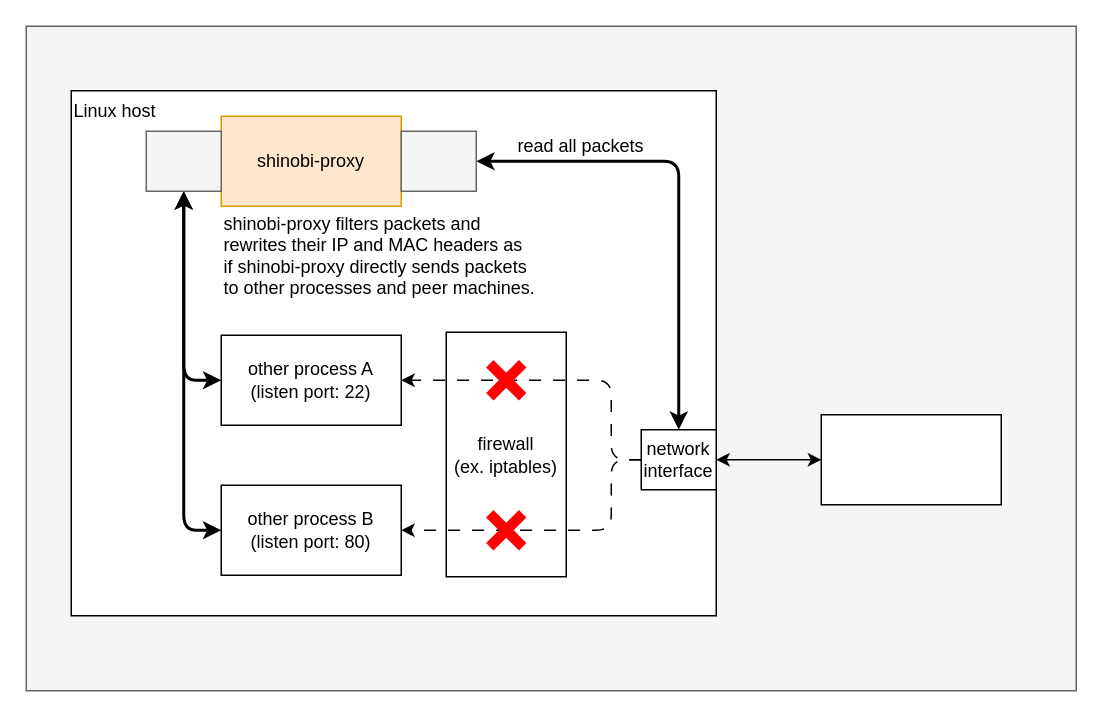
Some shapes in this 1103 by 717 pixel diagram are drawn without their labels. Each missing label, with the centre of its shape:
peer machine: pixel 910 459
raw socket: pixel 438 160
tun device: pixel 183 160
